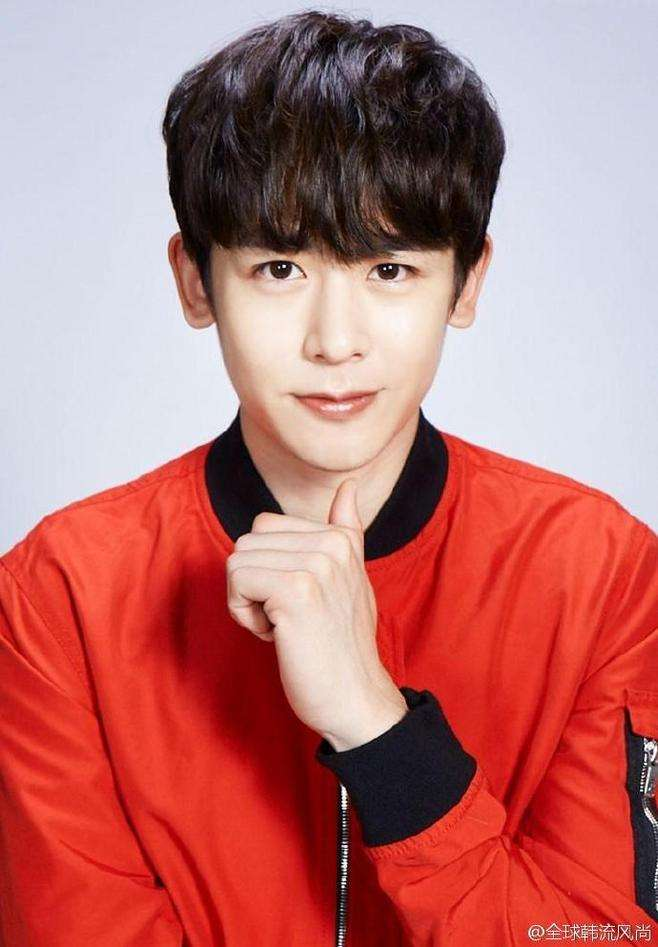person: (114, 19, 587, 870)
